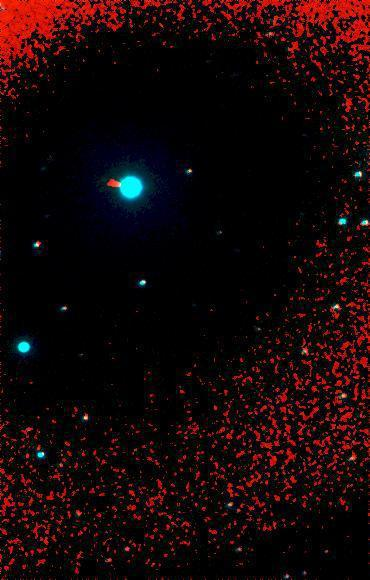star: (105, 169, 135, 199)
